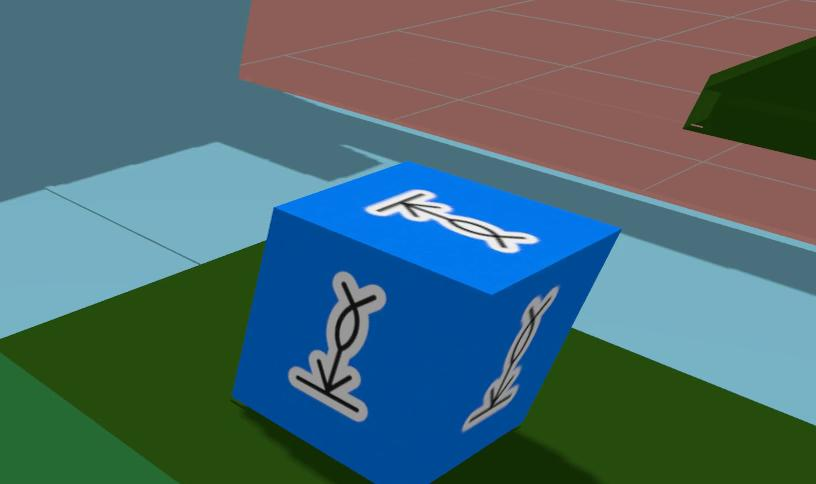KFS_REAL: (232, 163, 619, 484), (288, 271, 386, 422), (364, 189, 539, 253)
